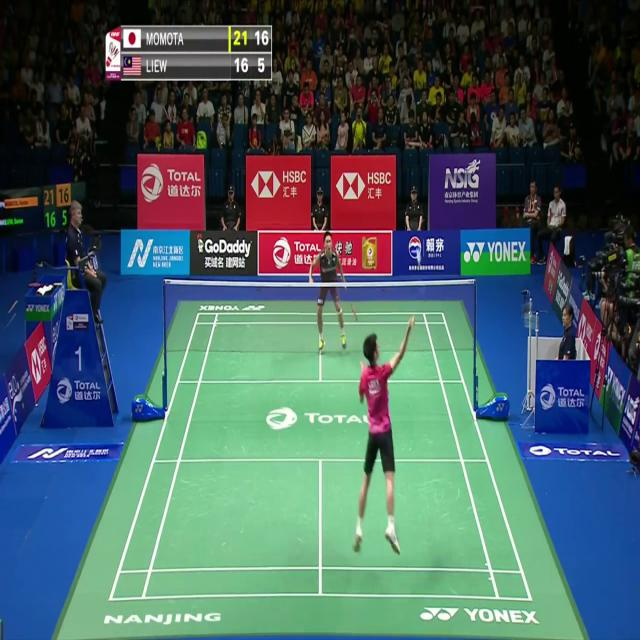Shuttlecock: (416, 252, 422, 264)
